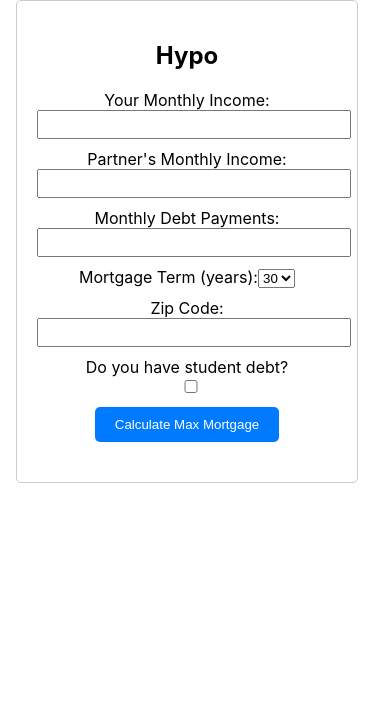
Test case: Integration Test
The image size is (375, 720).
Step 1. Type "25000" into the number field with test id "monthly-income" → (194, 124), box [37,110,351,139]
Step 2. Type "15000" into the number field with test id "partner-income" → (194, 183), box [37,169,351,198]
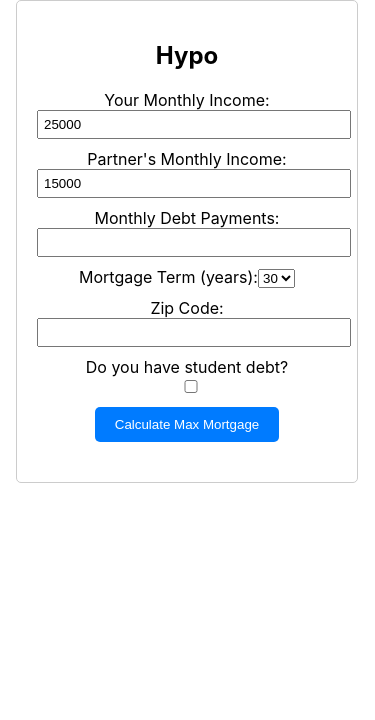
Step 3. Type "500" into the number field with test id "monthly-payment" → (194, 242), box [37,228,351,257]
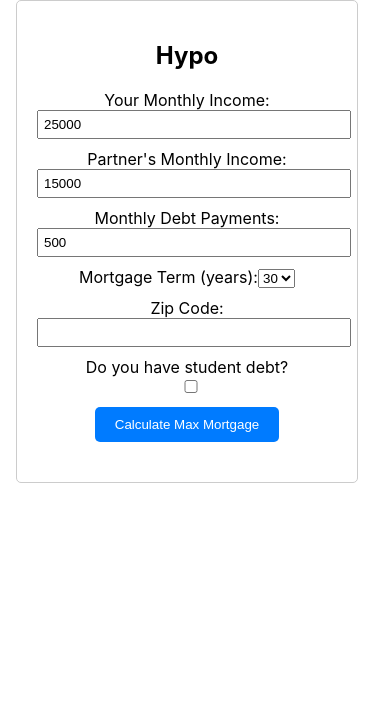
Step 4. Select "20" in the dropdown with test id "term" → (276, 278), box [258,269,295,288]
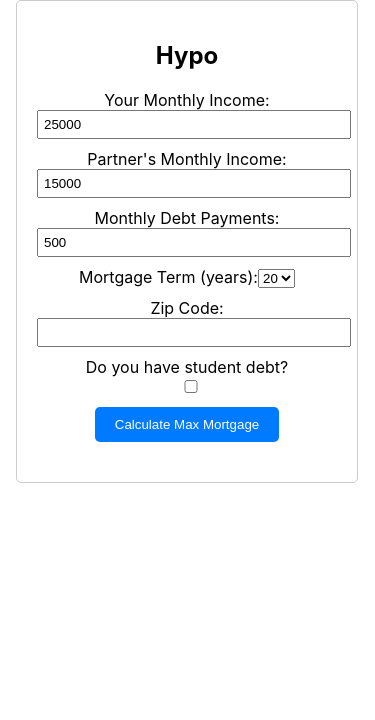
Step 5. Type "6641" into the field with test id "zipcode" → (194, 332), box [37,318,351,347]
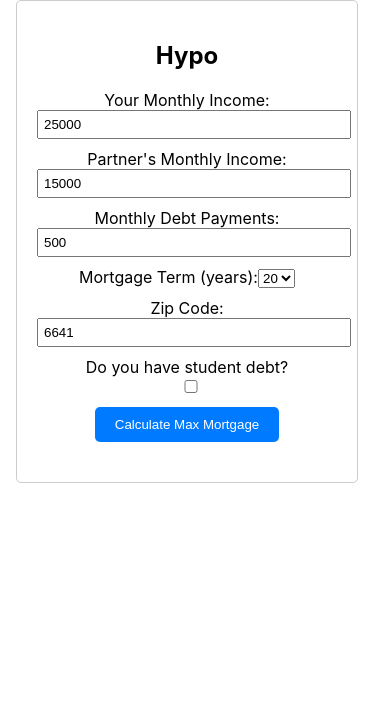
Step 6. Click the checkbox with test id "student-dept" → (191, 386), box [41,380,341,393]
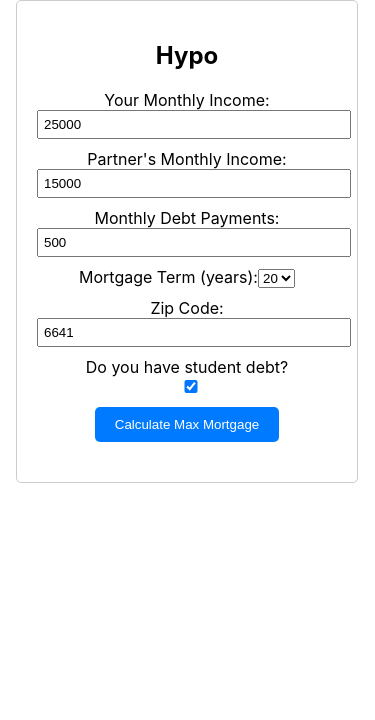
Step 7. Click the button "Calculate Max Mortgage" → (187, 424), box [95,407,279,442]
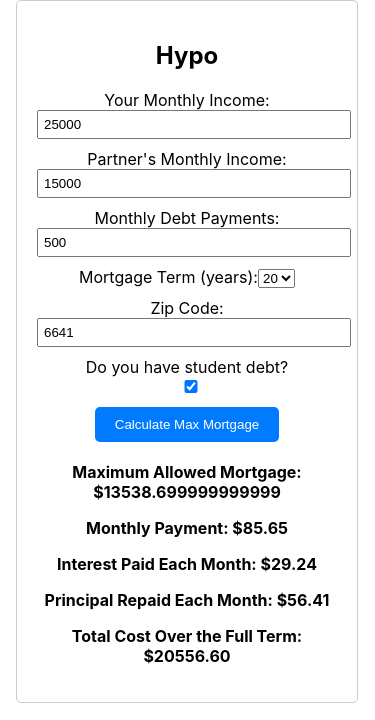
Now the text with test id "max-mortgage" reads "Maximum Allowed Mortgage: $13538.699999999999", box [72,462,302,502]
Now the text with test id "monthly-payment-result" reads "Monthly Payment: $85.65", box [86,518,288,538]
Now the text with test id "interest-per-month" reads "Interest Paid Each Month: $29.24", box [37,554,337,574]
